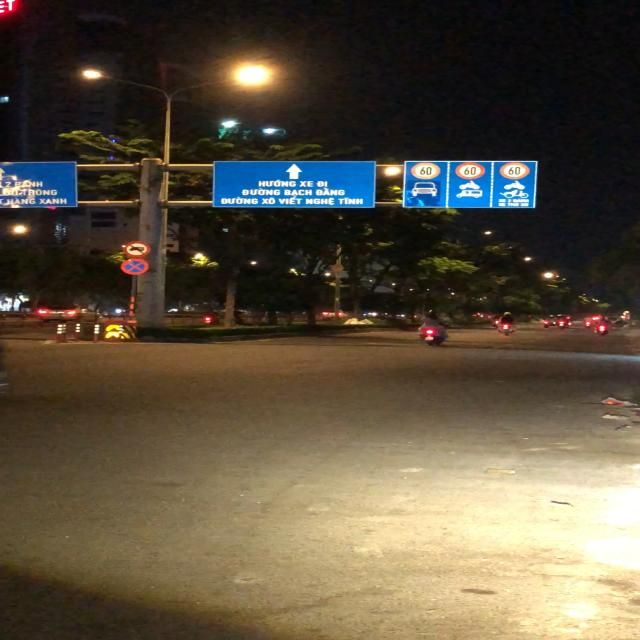Bien bao cam dung xe va do xe: (118, 259, 150, 275)
Bien bao cam xe oto tai: (120, 240, 152, 258)
Bien bao toc do toi da cho phep: (499, 162, 533, 181), (408, 161, 441, 180), (453, 162, 486, 180)
